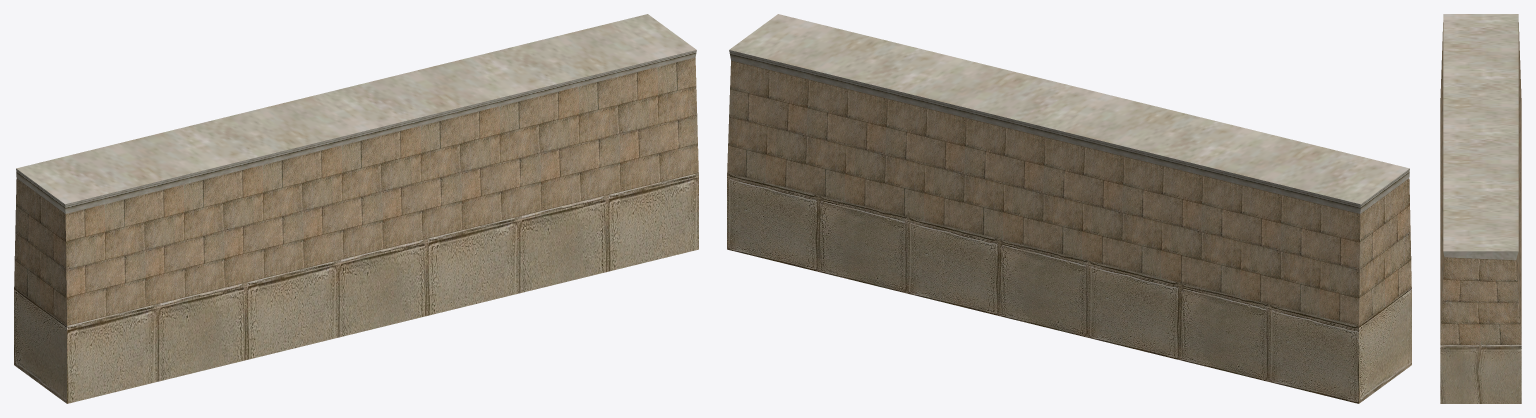
File: thm_nboo_imprv_pristine_wall_sml_s03_l1.fbx
3 renders of one model, left to right at view 1: azimuth 30°, elevation 25°; view 2: azimuth 150°, elevation 25°; view 3: azimuth 270°, elevation 25°, orthographic. The views are drawn at different scales.
Visible parts, largest first — view 1: mesh_node; view 2: mesh_node; view 3: mesh_node.
Part boxes in pixels (bbox=[...]): mesh_node: bbox=[14, 14, 698, 403]; mesh_node: bbox=[727, 14, 1411, 403]; mesh_node: bbox=[1440, 14, 1521, 403].
Bounding box in the file's own units: 10.01 × 3.01 × 1.45.
